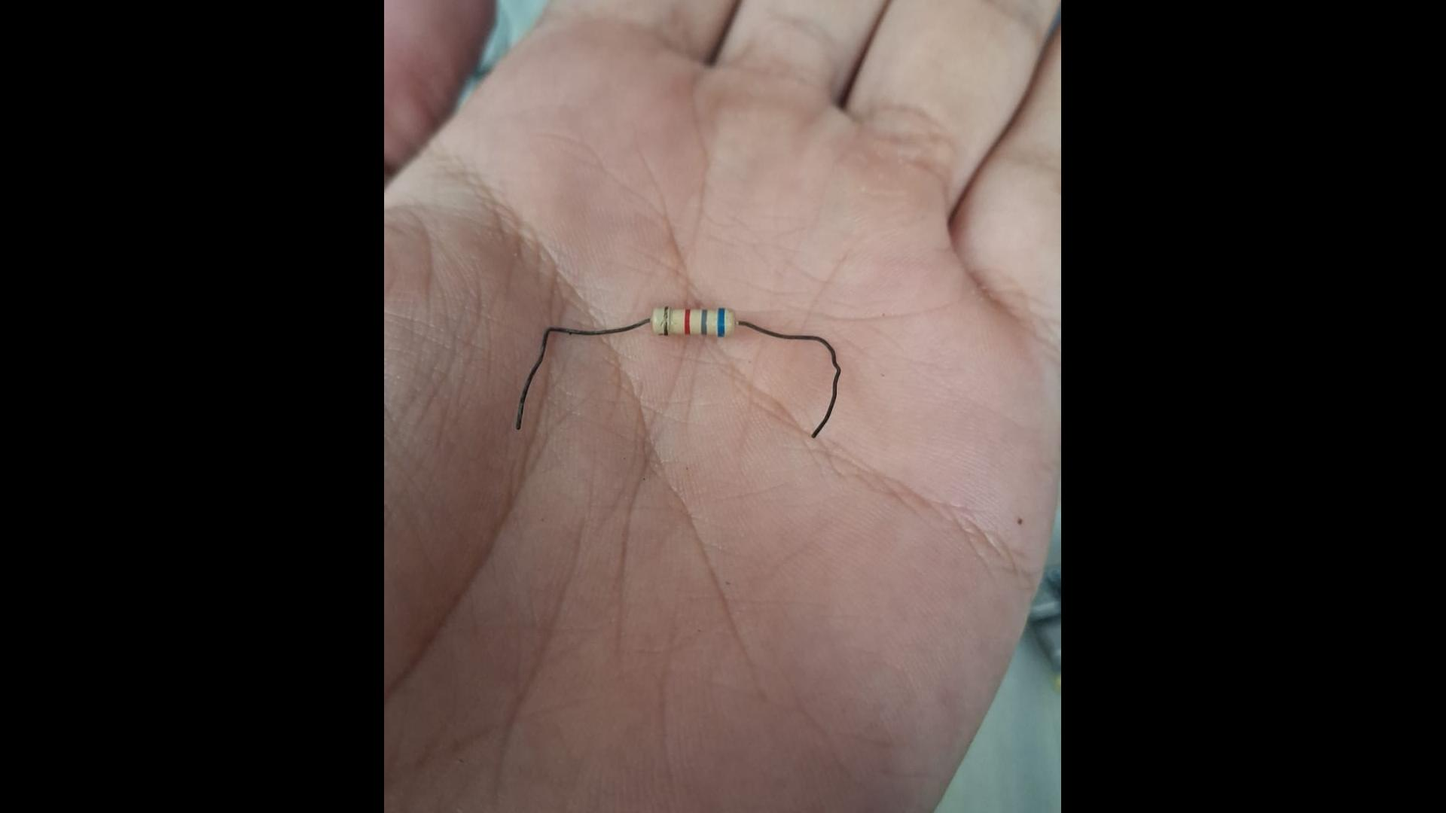Resistencia: (516, 305, 842, 438)
